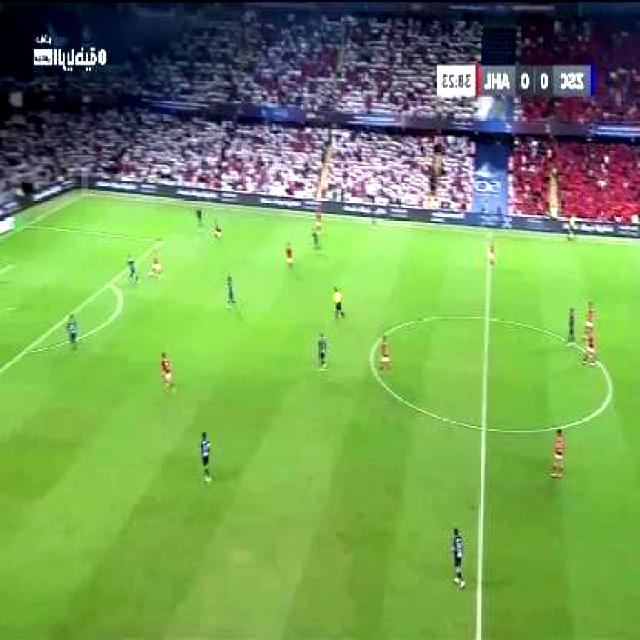bigarea_top_inner: (160, 237, 166, 246)
bottom_arc_area_intersection: (22, 346, 29, 357)
corner: (83, 191, 91, 195)
halfcircle_bottom: (478, 415, 494, 440)
halfcircle_top: (478, 308, 497, 330)
smallarea_top_inner: (9, 260, 17, 269)
top_arc_area_intersection: (106, 277, 114, 289)
